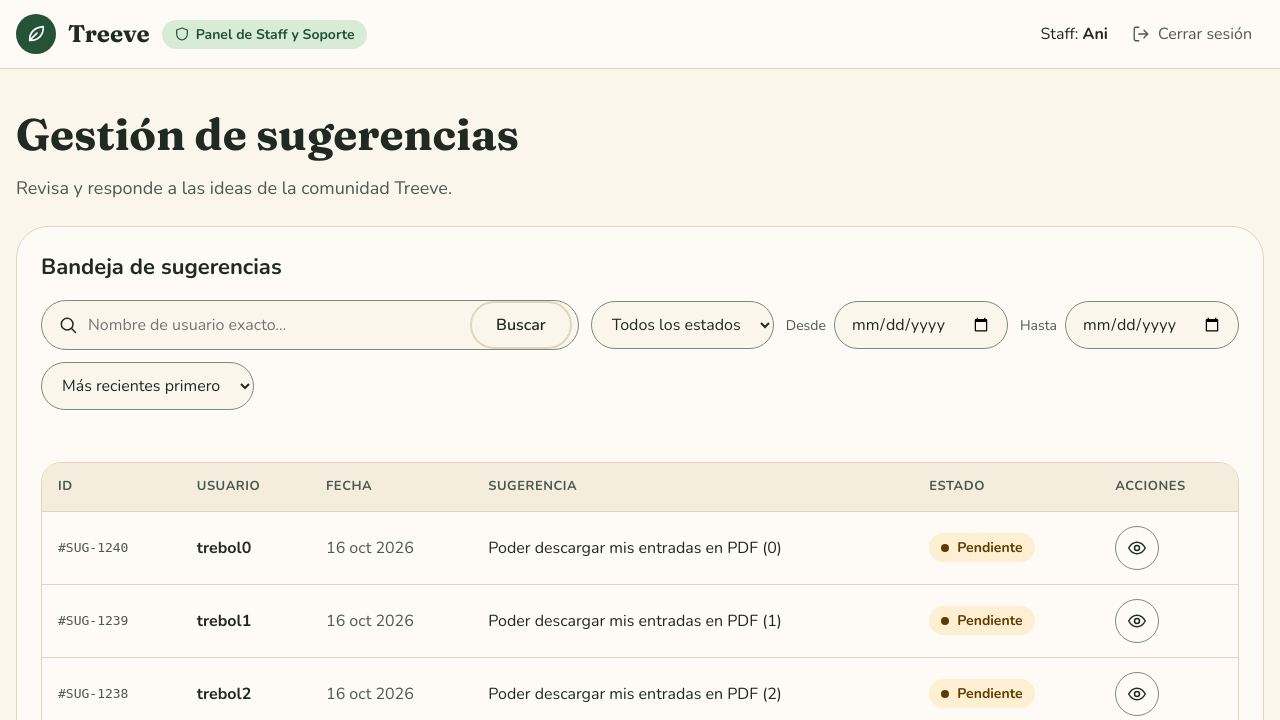
Test: PanelSugerencias cuando la fuente solo consulta (no permite cambiar el estado) › lo que muestra › el ojo abre la sugerencia completa, de solo lectura y avisando que cambiarla llegará pronto
The width and height of the screenshot is (1280, 720).
Expected: the text "trebol0" is shown, x1=181 y1=511 x2=310 y2=584
Click the button named "Ver la sugerencia SUG-1240": [1137, 548] box x1=1115 y1=526 x2=1159 y2=570
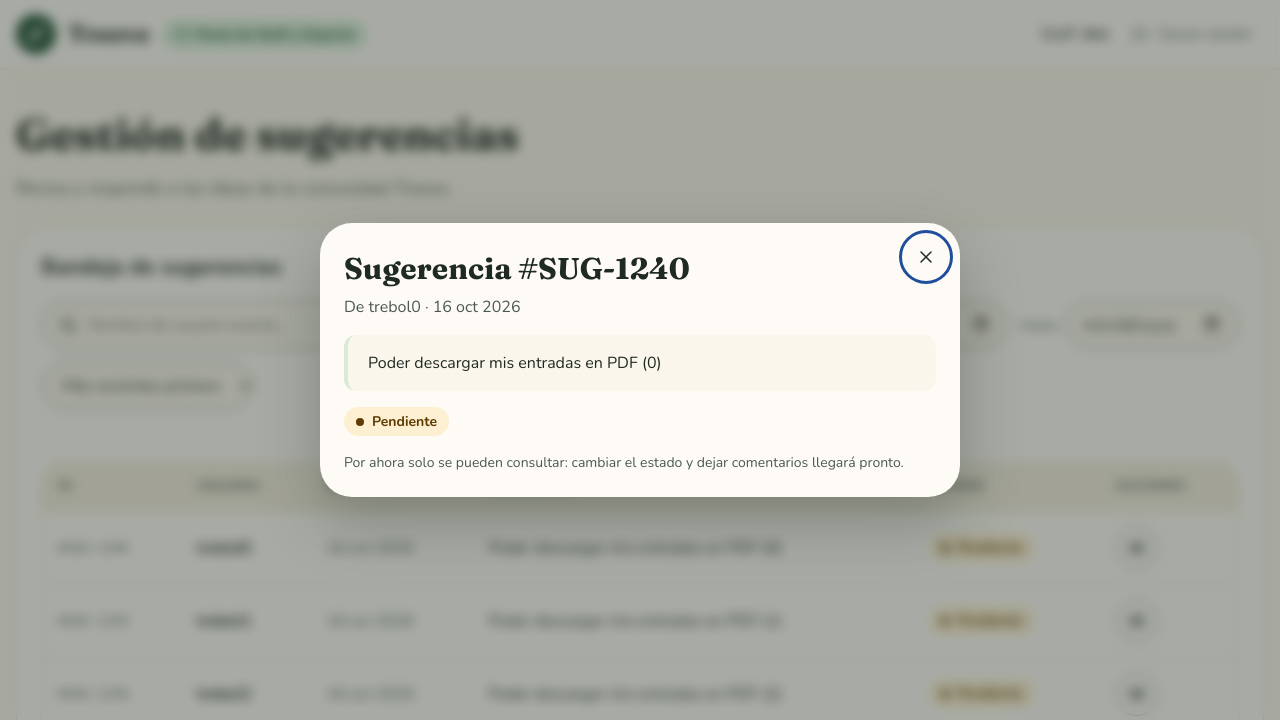
Expected: the text "Poder descargar mis entradas en PDF (0)" is shown, x1=344 y1=335 x2=936 y2=391
Expected: the text "Por ahora solo se pueden consultar" is shown, x1=344 y1=453 x2=904 y2=472
